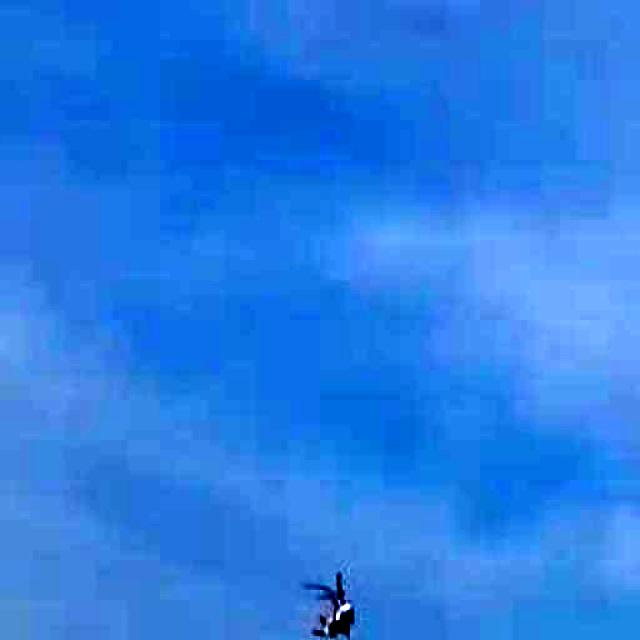drone: (292, 564, 379, 640)
